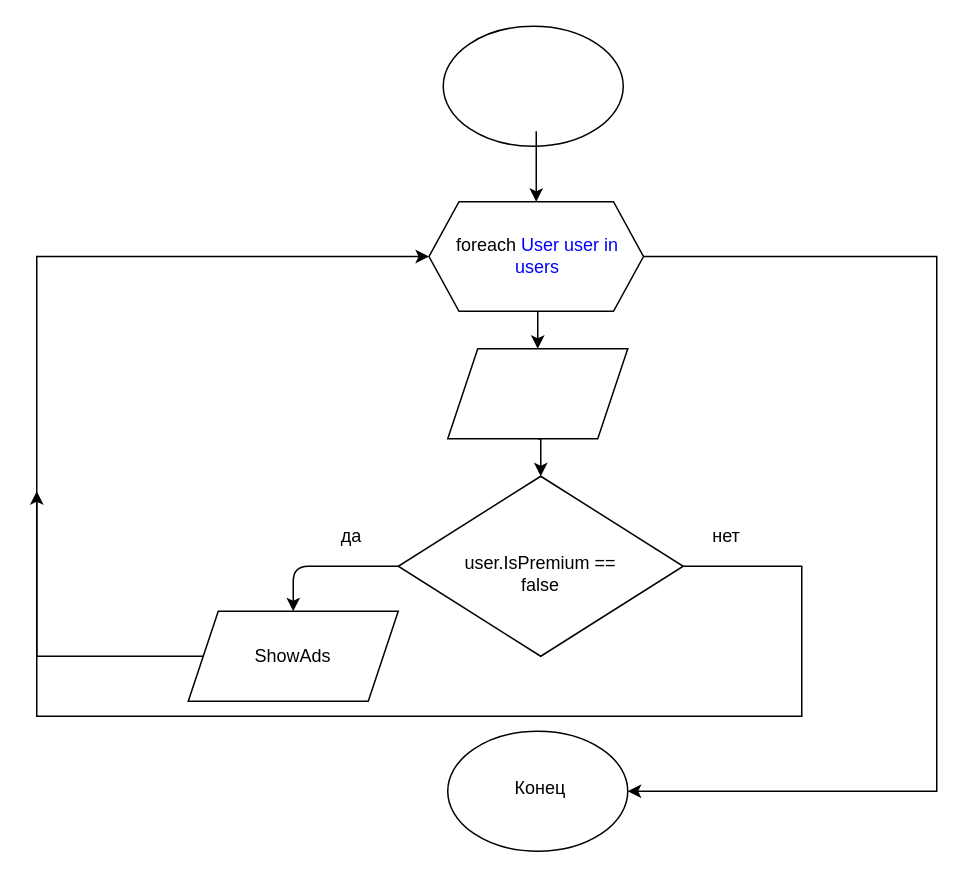
Image size: 975x878. Some labels were removed from this diagram. The centre of each missing label's shape, as x and y in pixels:
return "Привет, {user.Name}": (537,393)
Начало: (532,85)
